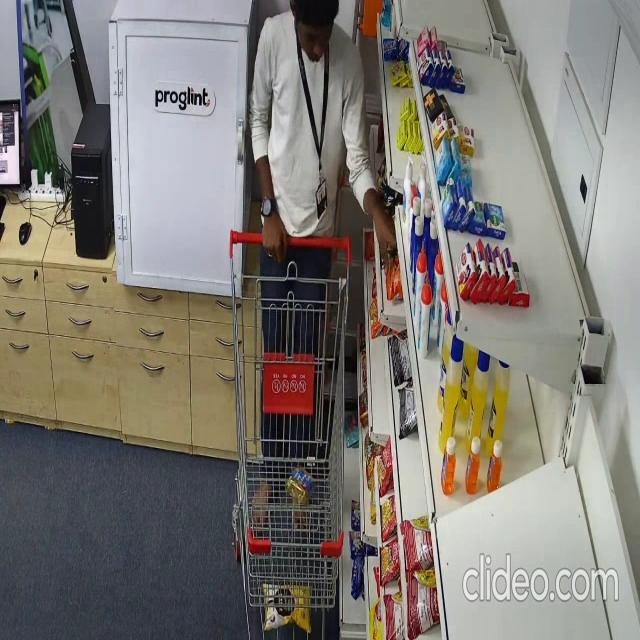normal: (248, 0, 398, 534)
